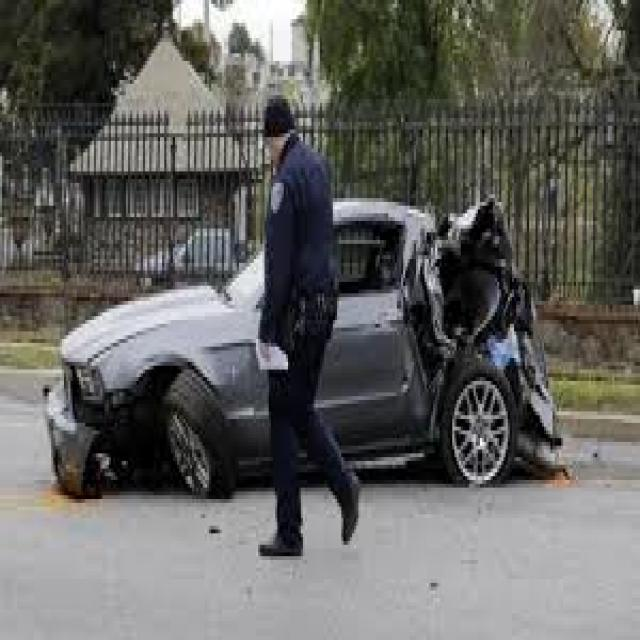severe: (414, 175, 523, 498)
